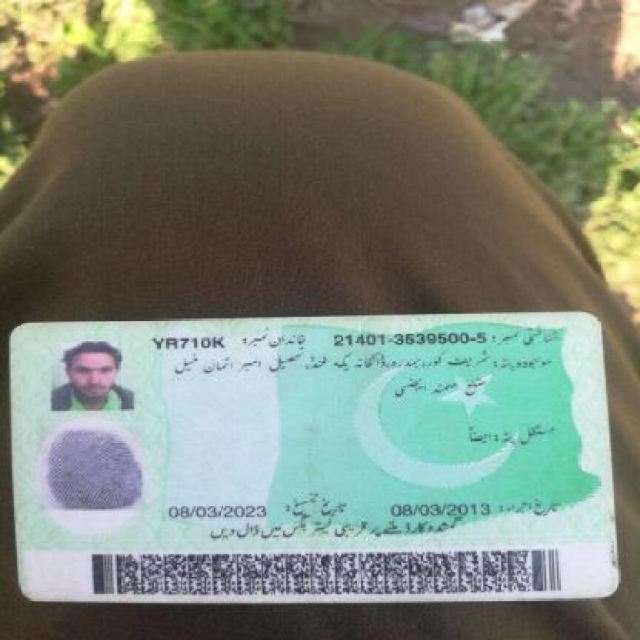Back: (9, 309, 628, 603)
